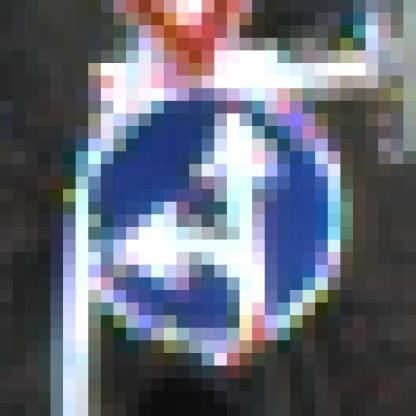Straight or Left: (64, 77, 354, 354)
